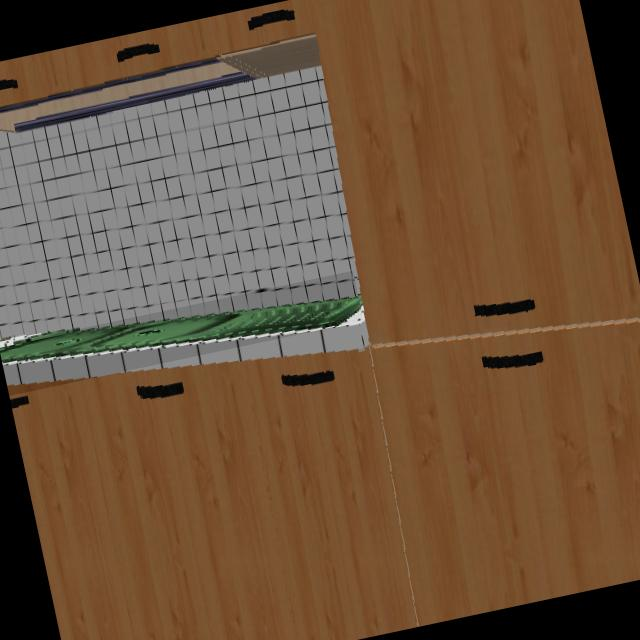countertop: (0, 296, 368, 386)
sink: (0, 298, 361, 366)
